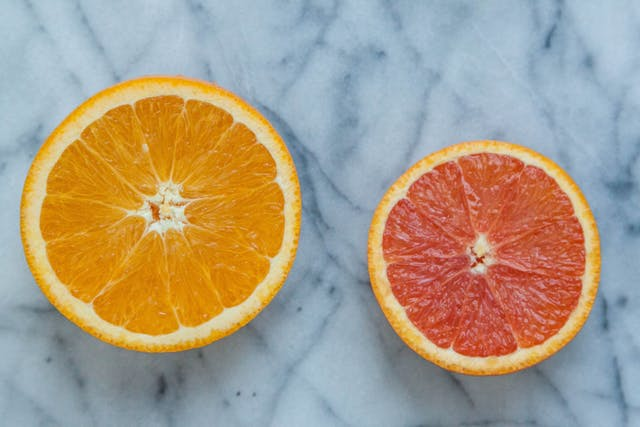orange: (19, 75, 304, 353), (364, 136, 608, 379)
